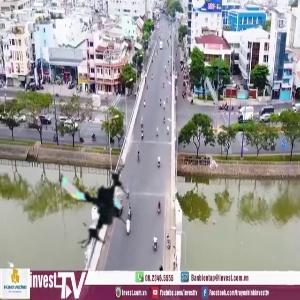drone: (44, 145, 147, 248)
